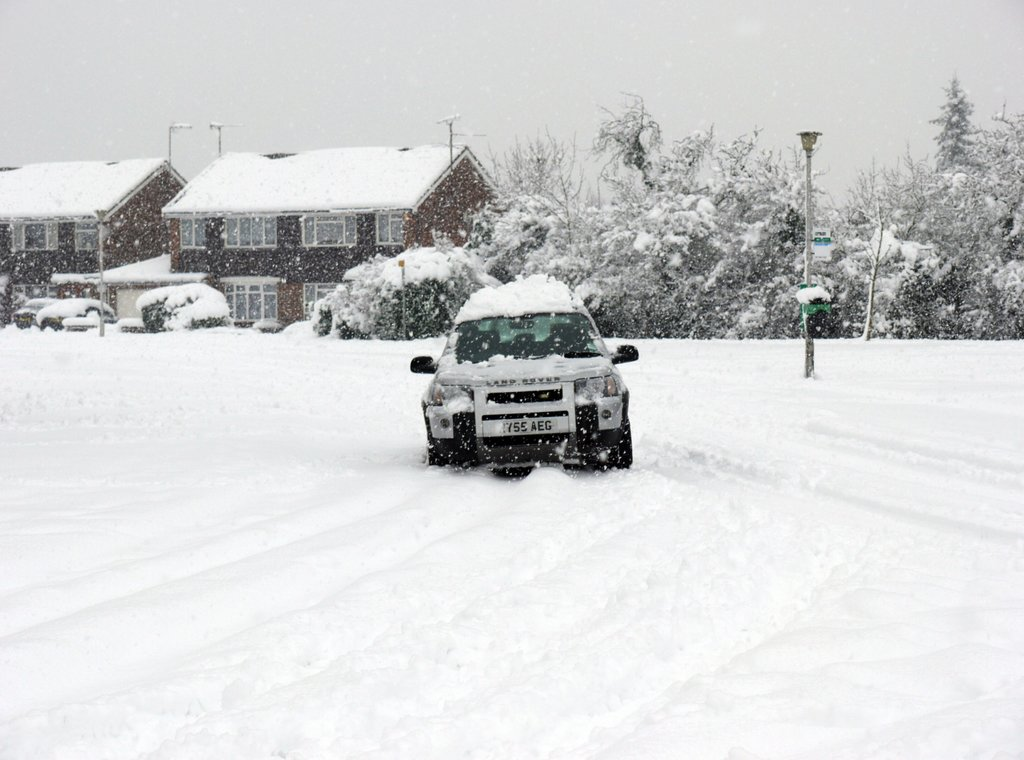mobil: (416, 282, 642, 478)
